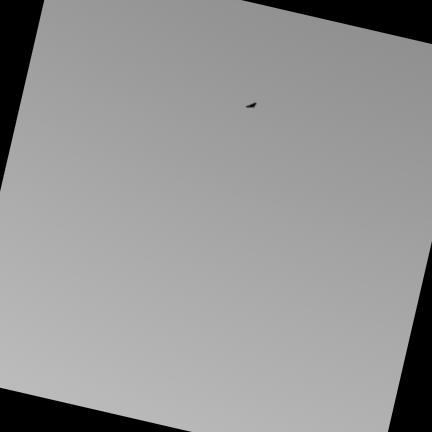Shahed: (246, 103, 256, 108)
